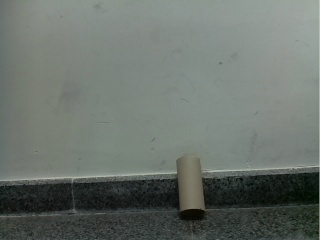rollo papel: (175, 157, 207, 220)
